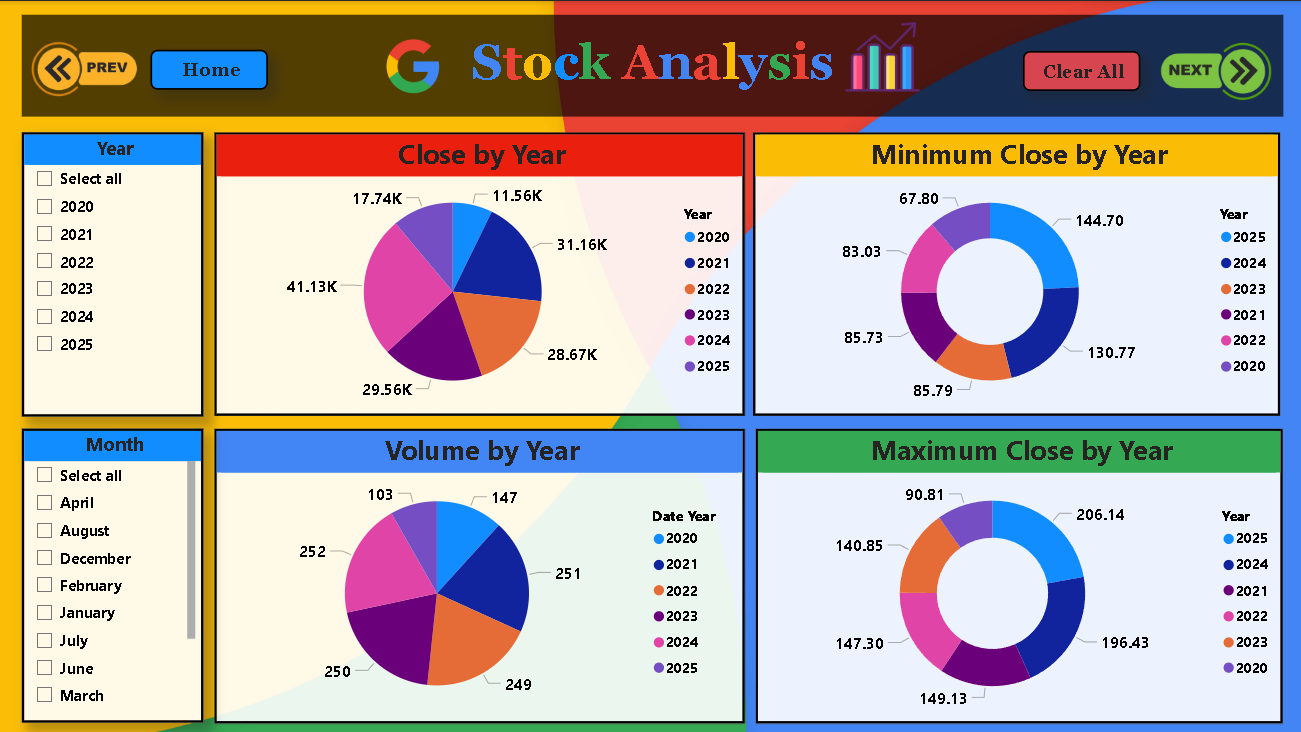

What the dashboard file says about the page in this screenshot:
{"tool":"powerbi","page":{"name":"Stock Analysis","canvas":[1280,720],"ordinal":3},"visuals":[{"type":"textbox","box":[23,13.5,1238.4,100],"z":0},{"type":"image","box":[374.2,20.9,67.5,85.9],"z":1000},{"type":"image","box":[824.7,13.5,87.9,82.5],"z":2000},{"type":"slicer","title":"Year ","fields":{"Values":["Google Stock.Year"]},"box":[23.5,128.4,178.2,279],"z":3000},{"type":"pieChart","title":"Close by Year","fields":{"Y":["Sum(Google Stock.Close)"],"Category":["Google Stock.Date.Variation.Date Hierarchy.Year"]},"box":[212.3,128.5,520.8,278.5],"z":4000},{"type":"pieChart","title":"Volume by Year","fields":{"Y":["Count(Google Stock.Volume)"],"Category":["Google Stock.Date.Variation.Date Hierarchy.Year"]},"box":[212.3,419.2,520.8,289.2],"z":5000},{"type":"donutChart","title":"Minimum Close by Year","fields":{"Y":["Google Stock.Min Close"],"Category":["Google Stock.Year"]},"box":[740.9,128.4,517.8,278.5],"z":6000},{"type":"donutChart","title":"Maximum Close by Year","fields":{"Category":["Google Stock.Year"],"Y":["Google Stock.Max Close"]},"box":[743.6,419.1,517.8,289.3],"z":7000},{"type":"slicer","title":"Month","fields":{"Values":["Google Stock.Month Name"]},"box":[23.5,419.9,178.2,288.6],"z":8000},{"type":"image","box":[1109.2,34.4,170.6,77.3],"z":9000},{"type":"image","box":[0,30.7,170.6,77.3],"z":10000},{"type":"actionButton","title":"Home","box":[149.7,47.9,115.3,39.3],"z":11000},{"type":"actionButton","title":"Clear All","box":[1006.1,49.1,115.3,39.3],"z":12000}]}

Visuals, with their boxes in screenshot pixels (x1, y1, x2, y2), scaled from the page's 1280x720 canvas onto the 1301x732 screenshot:
textbox: select_region(23, 14, 1282, 115)
image: select_region(380, 21, 449, 109)
image: select_region(838, 14, 928, 98)
"Year " slicer: select_region(24, 131, 205, 414)
"Close by Year" pieChart: select_region(216, 131, 745, 414)
"Volume by Year" pieChart: select_region(216, 426, 745, 720)
"Minimum Close by Year" donutChart: select_region(753, 131, 1279, 414)
"Maximum Close by Year" donutChart: select_region(756, 426, 1282, 720)
"Month" slicer: select_region(24, 427, 205, 720)
image: select_region(1127, 35, 1300, 114)
image: select_region(0, 31, 173, 110)
"Home" actionButton: select_region(152, 49, 269, 89)
"Clear All" actionButton: select_region(1023, 50, 1140, 90)
